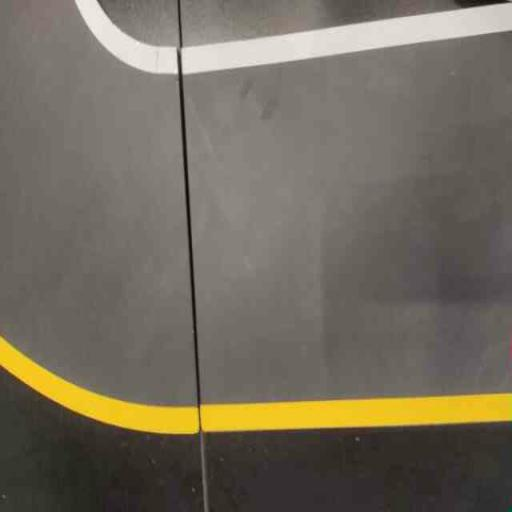straight: (200, 0, 512, 451)
